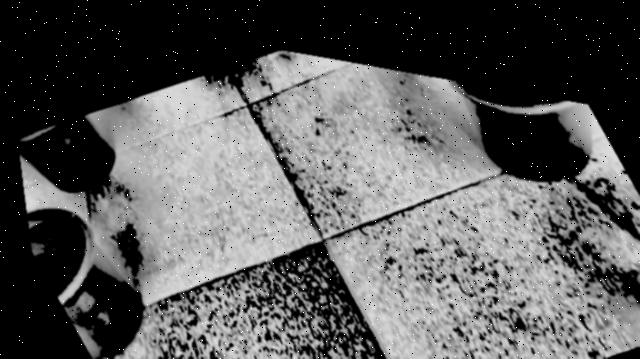pot: (27, 208, 143, 359), (445, 79, 592, 181), (17, 113, 115, 193)
